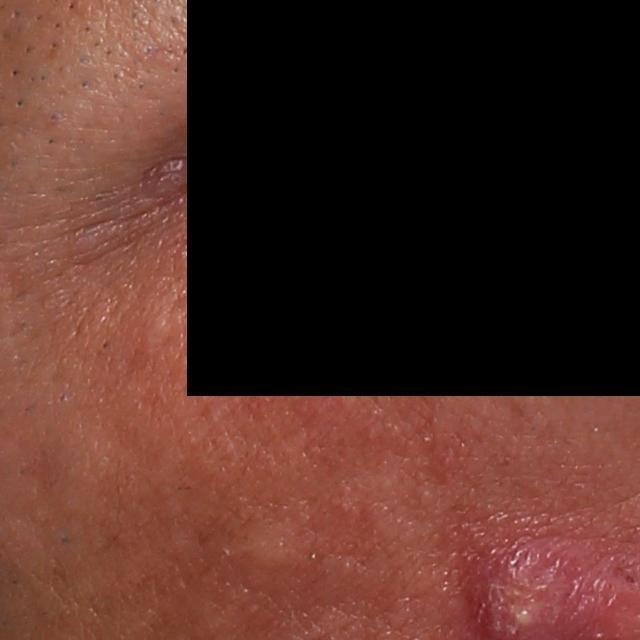hypertrophic_scar: (228, 521, 310, 568)
